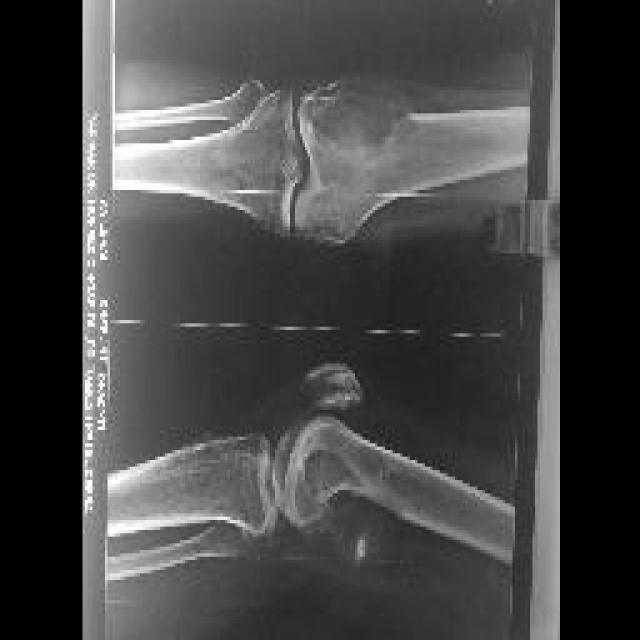bone-cancer: (304, 77, 419, 170), (291, 443, 394, 530)
